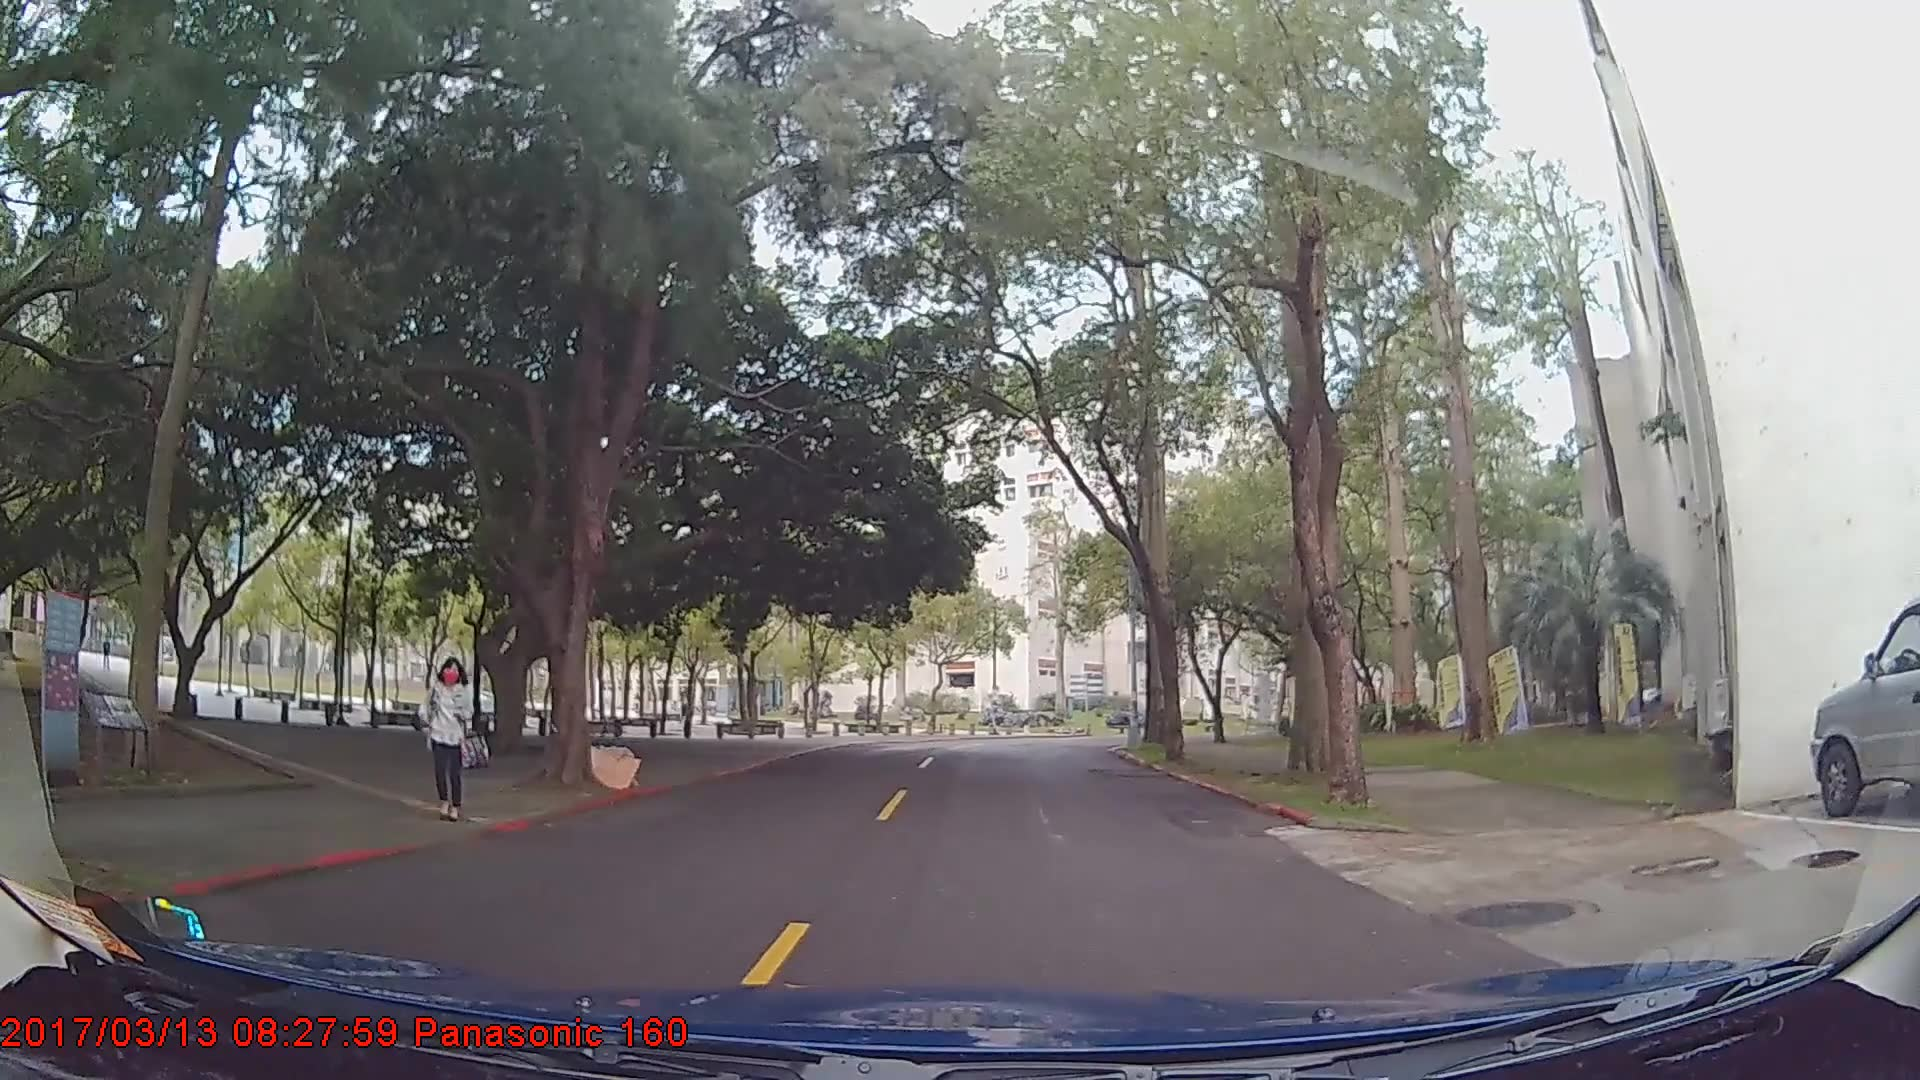pedestrian: (418, 656, 491, 823)
vehicle: (1810, 590, 1920, 821)
